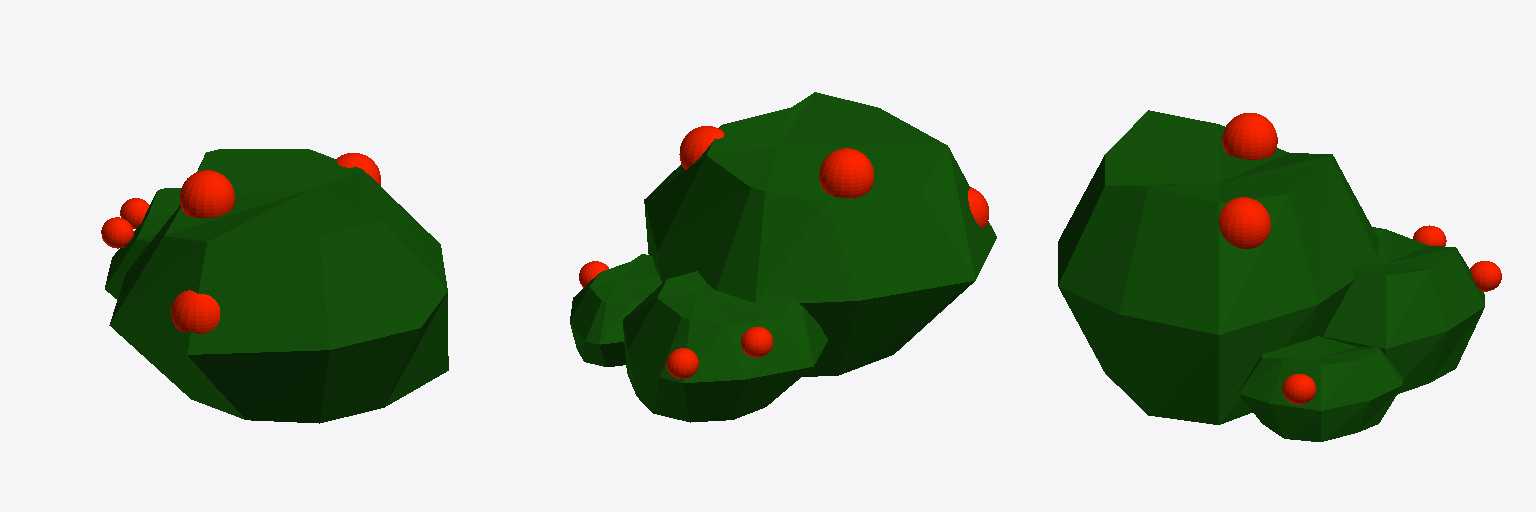
File: Bush1.obj
The picture shows the model from 3 angles: view 1: azimuth 30°, elevation 25°; view 2: azimuth 150°, elevation 25°; view 3: azimuth 270°, elevation 25°; orthographic projection.
Parts seen in each view (by area): view 1: pSphere1, pSphere7, pSphere2, pSphere5, pSphere8, pSphere4, pSphere6; view 2: pSphere1, pSphere7, pSphere9, pSphere2, pSphere4, pSphere6, pSphere8, pSphere5; view 3: pSphere1, pSphere7, pSphere9, pSphere4, pSphere2, pSphere10, pSphere6.
Boxes of the visible parts, <box> form: pSphere1: <box>109,149,448,423</box>; pSphere7: <box>105,188,180,299</box>; pSphere2: <box>180,170,234,217</box>; pSphere5: <box>171,290,219,333</box>; pSphere8: <box>101,217,133,248</box>; pSphere4: <box>337,153,380,185</box>; pSphere6: <box>120,198,149,228</box>; pSphere1: <box>644,92,996,376</box>; pSphere7: <box>623,271,827,422</box>; pSphere9: <box>570,254,661,366</box>; pSphere2: <box>819,148,873,197</box>; pSphere4: <box>679,126,724,169</box>; pSphere6: <box>666,348,698,378</box>; pSphere8: <box>741,327,772,357</box>; pSphere5: <box>968,187,988,227</box>; pSphere1: <box>1058,110,1378,424</box>; pSphere7: <box>1323,227,1484,394</box>; pSphere9: <box>1238,336,1402,441</box>; pSphere4: <box>1219,197,1270,248</box>; pSphere2: <box>1222,113,1277,159</box>; pSphere10: <box>1282,374,1315,404</box>; pSphere6: <box>1470,261,1501,291</box>.
Bounding box in the file's own units: 2.94 × 1.74 × 3.19.